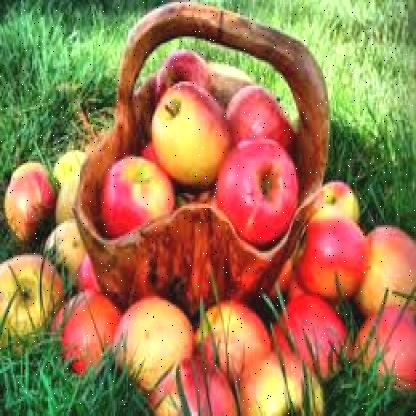apple: (142, 86, 230, 178), (220, 140, 306, 230), (117, 294, 192, 394), (266, 283, 350, 367), (102, 160, 180, 240), (54, 285, 124, 371), (360, 215, 414, 313), (296, 219, 366, 294), (2, 257, 63, 337), (197, 296, 272, 360), (227, 78, 296, 146), (150, 360, 240, 412), (352, 306, 414, 378), (157, 48, 216, 116), (248, 354, 320, 408), (38, 219, 100, 281), (7, 168, 58, 236), (54, 152, 94, 214)
